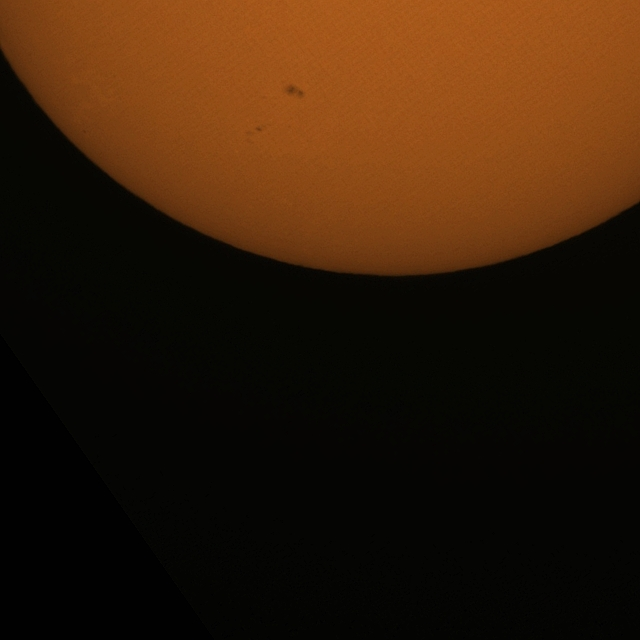sunspot: (284, 84, 305, 101)
